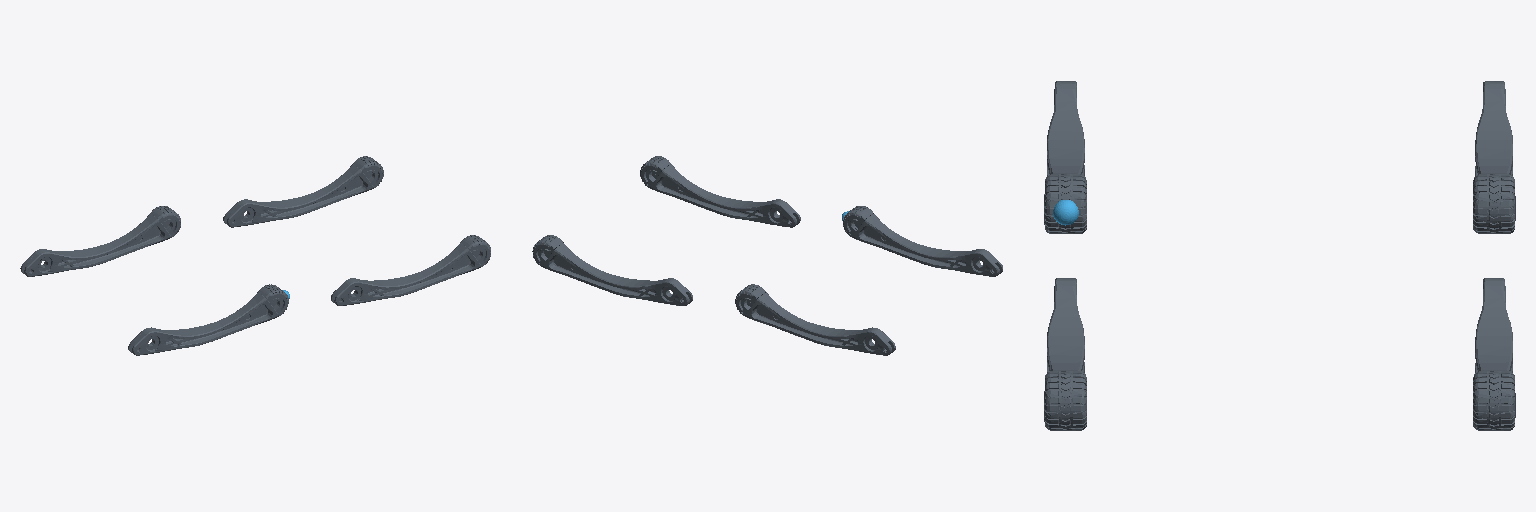
URDF robot description (MiniLiteV3):
<?xml version="1.0" encoding="utf-8"?> 
<robot name="MiniLiteV3"> 
  <link name="TORSO"> 
    <visual> 
      <origin rpy="0 0 0" xyz="0.0 0.0 0.0"/> 
      <geometry> 
      <mesh filename="../meshes/Lite3.dae" /> 
      </geometry> 
    </visual> 
    <collision> 
      <geometry> 
        <box size="0.35 0.184 0.08"/> 
      </geometry> 
    </collision> 
  </link> 
 
  <link name="INERTIA"> 
    <inertial> 
      <origin xyz="0.004098 -0.000663 -0.002069" /> 
      <mass value="4.130" /> 
      <inertia ixx="0.016982120" ixy="2.1294E-05" ixz="6.0763E-05" iyy="0.030466501" iyz="1.7968E-05" izz="0.042609956" /> 
    </inertial> 
  </link> 
 
  <joint name="Torso2Inertia" type="fixed"> 
    <parent link="TORSO" /> 
    <child link="INERTIA" /> 
  </joint> 

  <link name="FL_HIP"> 
    <inertial> 
      <origin xyz="-0.0047 -0.0091 -0.0018" /> 
      <mass value="0.428" /> 
      <inertia ixx="0.00014538" ixy="8.1579E-07" ixz="-1.264E-05" iyy="0.00024024" iyz="1.3443E-06" izz="0.00013038" /> 
    </inertial> 
    <visual> 
      <origin rpy="0 0 0" xyz="0.0 0.0 0.0"/> 
      <geometry> 
        <mesh filename="../meshes/FL_HIP.dae" /> 
      </geometry> 
    </visual> 
  </link> 
 
  <joint name="FL_HipX" type="revolute"> 
    <origin xyz="0.1745 0.062 0" /> 
    <parent link="TORSO" /> 
    <child link="FL_HIP" /> 
    <axis xyz="-1 0 0" /> 
    <limit lower="-0.42" upper="0.42" effort="24" velocity="26" /> 
  </joint> 
 
  <link name="FL_THIGH"> 
    <inertial> 
      <origin xyz="-0.00523 -0.0216 -0.0273" /> 
      <mass value="0.61" /> 
      <inertia ixx="0.001" ixy="-2.5E-06" ixz="-1.12E-04" iyy="0.00116" iyz="3.75E-07" izz="2.68E-04" /> 
    </inertial> 
    <visual> 
      <origin rpy="0 0 0" xyz="0.0 0.0 0.0"/> 
      <geometry> 
        <mesh filename="../meshes/L_THIGH.dae" /> 
      </geometry> 
    </visual> 
    <collision> 
      <origin xyz="0 0 -0.08"/> 
      <geometry> 
        <box size="0.02 0.02 0.16"/> 
      </geometry> 
    </collision> 
  </link> 
 
  <joint name="FL_HipY" type="revolute"> 
    <origin xyz="0 0.0985 0" /> 
    <parent link="FL_HIP" /> 
    <child link="FL_THIGH" /> 
    <axis xyz="0 -1 0" /> 
    <limit lower="-2.67" upper="0.314" effort="24" velocity="26" /> 
  </joint> 
 
  <link name="FL_SHANK"> 
    <inertial> 
      <origin xyz="0.00585 -8.732E-07 -0.12" /> 
      <mass value="0.115" /> 
      <inertia ixx="6.68E-04" ixy="-1.24E-08" ixz="6.91E-06" iyy="6.86E-04" iyz="5.65E-09" izz="3.155E-05" /> 
    </inertial> 
    <visual> 
      <geometry> 
        <mesh filename="../meshes/SHANK.dae" /> 
      </geometry> 
    </visual> 
    <collision> 
      <origin xyz="0 0 -0.09"/> 
      <geometry> 
        <box size="0.02 0.02 0.18"/> 
      </geometry> 
    </collision> 
  </link> 
 
  <joint name="FL_Knee" type="revolute"> 
    <origin xyz="0 0 -0.20" /> 
    <parent link="FL_THIGH" /> 
    <child link="FL_SHANK" /> 
    <axis xyz="0 -1 0" /> 
    <limit lower="0.6" upper="2.72" effort="36" velocity="17" /> 
  </joint> 
 
  <link name="FL_FOOT"> 
    <inertial> 
      <mass value="1E-2" /> 
      <inertia ixx="1E-12" ixy="0" ixz="0" iyy="1E-12" iyz="0" izz="1E-12" /> 
    </inertial> 
    <collision> 
      <geometry> 
        <sphere radius="0.01"/> 
      </geometry> 
    </collision> 
  </link> 
 

 
  <joint name="FL_Ankle" type="fixed"> 
    <origin xyz="0 0 -0.23"/> 
    <parent link="FL_SHANK" /> 
    <child link="FL_FOOT" /> 
  </joint> 

 
  <link name="FR_HIP"> 
    <inertial> 
      <origin xyz="-0.0047 0.0091 -0.0018" /> 
      <mass value="0.428" /> 
      <inertia ixx="0.00014538" ixy="-8.1551E-07" ixz="-1.2639E-05" iyy="0.00024024" iyz="-1.3441E-06" izz="0.00013038" /> 
    </inertial> 
    <visual> 
      <origin rpy="0 0 0" xyz="0.0 0.0 0.0"/> 
      <geometry> 
        <mesh filename="../meshes/FR_HIP.dae" /> 
      </geometry> 
    </visual> 
  </link> 
 
  <joint name="FR_HipX" type="revolute"> 
    <origin xyz="0.1745 -0.062 0" /> 
    <parent link="TORSO" /> 
    <child link="FR_HIP" /> 
    <axis xyz="-1 0 0" /> 
    <limit lower="-0.42" upper="0.42" effort="24" velocity="26" /> 
  </joint> 
 
  <link name="FR_THIGH"> 
    <inertial> 
      <origin xyz="-0.00523 0.0216 -0.0273" /> 
      <mass value="0.61" /> 
      <inertia ixx="0.001" ixy="2.5E-06" ixz="-1.12E-04" iyy="0.00116" iyz="-3.75E-07" izz="2.68E-04" /> 
    </inertial> 
    <visual> 
      <origin rpy="0 0 0" xyz="0.0 0.0 0.0"/> 
      <geometry> 
        <mesh filename="../meshes/R_THIGH.dae" /> 
      </geometry> 
    </visual> 
    <collision> 
      <origin xyz="0 0 -0.08"/> 
      <geometry> 
        <box size="0.02 0.02 0.16"/> 
      </geometry> 
    </collision> 
  </link> 
 
  <joint name="FR_HipY" type="revolute"> 
    <origin xyz="0 -0.0985 0" /> 
    <parent link="FR_HIP" /> 
    <child link="FR_THIGH" /> 
    <axis xyz="0 -1 0" /> 
    <limit lower="-2.67" upper="0.314" effort="24" velocity="26" /> 
  </joint> 
 
  <link name="FR_SHANK"> 
    <inertial> 
      <origin xyz="0.00585 -8.732E-07 -0.12" /> 
      <mass value="0.115" /> 
      <inertia ixx="6.68E-04" ixy="-1.24E-08" ixz="6.91E-06" iyy="6.86E-04" iyz="5.65E-09" izz="3.155E-05" /> 
    </inertial> 
    <visual> 
      <geometry> 
        <mesh filename="../meshes/SHANK.dae" /> 
      </geometry> 
    </visual> 
    <collision> 
      <origin xyz="0 0 -0.09"/> 
      <geometry> 
        <box size="0.02 0.02 0.18"/> 
      </geometry> 
    </collision> 
  </link> 
 
  <joint name="FR_Knee" type="revolute"> 
    <origin xyz="0 0 -0.20" /> 
    <parent link="FR_THIGH" /> 
    <child link="FR_SHANK" /> 
    <axis xyz="0 -1 0" /> 
    <limit lower="0.6" upper="2.72" effort="36" velocity="17" /> 
  </joint> 
 
  <link name="FR_FOOT"> 
    <inertial> 
      <mass value="1E-2" /> 
      <inertia ixx="1E-12" ixy="0" ixz="0" iyy="1E-12" iyz="0" izz="1E-12" /> 
    </inertial> 
    <collision> 
      <geometry> 
        <sphere radius="0.01"/> 
      </geometry> 
    </collision> 
  </link> 

 
  <joint name="FR_Ankle" type="fixed"> 
    <origin xyz="0 0 -0.23"/> 
    <parent link="FR_SHANK" /> 
    <child link="FR_FOOT" /> 
  </joint> 

 
  <link name="HL_HIP"> 
    <inertial> 
      <origin xyz="0.0047 -0.0091 -0.0018" /> 
      <mass value="0.428" /> 
      <inertia ixx="0.00014538" ixy="-8.1585E-07" ixz="1.2639E-05" iyy="0.00024024" iyz="1.3444E-06" izz="0.00013038" /> 
    </inertial> 
    <visual> 
      <origin rpy="0 0 0" xyz="0.0 0.0 0.0"/> 
      <geometry> 
        <mesh filename="../meshes/HL_HIP.dae" /> 
      </geometry> 
    </visual> 
  </link> 
 
  <joint name="HL_HipX" type="revolute"> 
    <origin xyz="-0.1745 0.062 0" /> 
    <parent link="TORSO" /> 
    <child link="HL_HIP" /> 
    <axis xyz="-1 0 0" /> 
    <limit lower="-0.42" upper="0.42" effort="24" velocity="26" /> 
  </joint> 
 
  <link name="HL_THIGH"> 
    <inertial> 
      <origin xyz="-0.00523 -0.0216 -0.0273" /> 
      <mass value="0.61" /> 
      <inertia ixx="0.001" ixy="-2.5E-06" ixz="-1.12E-04" iyy="0.00116" iyz="3.75E-07" izz="2.68E-04" /> 
    </inertial> 
    <visual> 
      <origin rpy="0 0 0" xyz="0.0 0.0 0.0"/> 
      <geometry> 
        <mesh filename="../meshes/L_THIGH.dae" /> 
      </geometry> 
    </visual> 
    <collision> 
      <origin xyz="0 0 -0.08"/> 
      <geometry> 
        <box size="0.02 0.02 0.16"/> 
      </geometry> 
    </collision> 
  </link> 
 
  <joint name="HL_HipY" type="revolute"> 
    <origin xyz="0 0.0985 0" /> 
    <parent link="HL_HIP" /> 
    <child link="HL_THIGH" /> 
    <axis xyz="0 -1 0" /> 
    <limit lower="-2.67" upper="0.314" effort="24" velocity="26" /> 
  </joint> 
 
  <link name="HL_SHANK"> 
    <inertial> 
      <origin xyz="0.00585 -8.732E-07 -0.12" /> 
      <mass value="0.115" /> 
      <inertia ixx="6.68E-04" ixy="-1.24E-08" ixz="6.91E-06" iyy="6.86E-04" iyz="5.65E-09" izz="3.155E-05" /> 
    </inertial> 
    <visual> 
      <geometry> 
        <mesh filename="../meshes/SHANK.dae" /> 
      </geometry> 
    </visual> 
    <collision> 
      <origin xyz="0 0 -0.09"/> 
      <geometry> 
        <box size="0.02 0.02 0.18"/> 
      </geometry> 
    </collision> 
  </link> 
 
  <joint name="HL_Knee" type="revolute"> 
    <origin xyz="0 0 -0.20" /> 
    <parent link="HL_THIGH" /> 
    <child link="HL_SHANK" /> 
    <axis xyz="0 -1 0" /> 
    <limit lower="0.6" upper="2.72" effort="36" velocity="17" /> 
  </joint> 
 
  <link name="HL_FOOT"> 
    <inertial> 
      <mass value="1E-2" /> 
      <inertia ixx="1E-12" ixy="0" ixz="0" iyy="1E-12" iyz="0" izz="1E-12" /> 
    </inertial> 
    <collision> 
      <geometry> 
        <sphere radius="0.01"/> 
      </geometry> 
    </collision> 
  </link> 

 
  <joint name="HL_Ankle" type="fixed"> 
    <origin xyz="0 0 -0.23"/> 
    <parent link="HL_SHANK" /> 
    <child link="HL_FOOT" /> 
  </joint> 

 
  <link name="HR_HIP"> 
    <inertial> 
      <origin xyz="0.0047 0.0091 -0.0018" /> 
      <mass value="0.428" /> 
      <inertia ixx="0.00014538" ixy="8.1545E-07" ixz="1.2639E-05" iyy="0.00024024" iyz="-1.344E-06" izz="0.00013038" /> 
    </inertial> 
    <visual> 
      <origin rpy="0 0 0" xyz="0.0 0.0 0.0"/> 
      <geometry> 
        <mesh filename="../meshes/HR_HIP.dae" /> 
      </geometry> 
    </visual> 
  </link> 
 
  <joint name="HR_HipX" type="revolute"> 
    <origin xyz="-0.1745 -0.062 0" /> 
    <parent link="TORSO" /> 
    <child link="HR_HIP" /> 
    <axis xyz="-1 0 0" /> 
    <limit lower="-0.42" upper="0.42" effort="24" velocity="26" /> 
  </joint> 
 
  <link name="HR_THIGH"> 
    <inertial> 
      <origin xyz="-0.00523 0.0216 -0.0273" /> 
      <mass value="0.61" /> 
      <inertia ixx="0.001" ixy="2.5E-06" ixz="-1.12E-04" iyy="0.00116" iyz="-3.75E-07" izz="2.68E-04" /> 
    </inertial> 
    <visual> 
      <origin rpy="0 0 0" xyz="0.0 0.0 0.0"/> 
      <geometry> 
        <mesh filename="../meshes/R_THIGH.dae" /> 
      </geometry> 
    </visual> 
    <collision> 
      <origin xyz="0 0 -0.08"/> 
      <geometry> 
        <box size="0.02 0.02 0.16"/> 
      </geometry> 
    </collision> 
  </link> 
 
  <joint name="HR_HipY" type="revolute"> 
    <origin xyz="0 -0.0985 0" /> 
    <parent link="HR_HIP" /> 
    <child link="HR_THIGH" /> 
    <axis xyz="0 -1 0" /> 
    <limit lower="-2.67" upper="0.314" effort="24" velocity="26" /> 
  </joint> 
 
  <link name="HR_SHANK"> 
    <inertial> 
      <origin xyz="0.00585 -8.732E-07 -0.12" /> 
      <mass value="0.115" /> 
      <inertia ixx="6.68E-04" ixy="-1.24E-08" ixz="6.91E-06" iyy="6.86E-04" iyz="5.65E-09" izz="3.155E-05" /> 
    </inertial> 
    <visual> 
      <geometry> 
        <mesh filename="../meshes/SHANK.dae" />
      </geometry> 
    </visual> 
    <collision> 
      <origin xyz="0 0 -0.09"/> 
      <geometry> 
        <box size="0.02 0.02 0.18"/> 
      </geometry> 
    </collision> 
  </link> 
 
  <joint name="HR_Knee" type="revolute"> 
    <origin xyz="0 0 -0.20" /> 
    <parent link="HR_THIGH" /> 
    <child link="HR_SHANK" /> 
    <axis xyz="0 -1 0" /> 
    <limit lower="0.6" upper="2.72" effort="36" velocity="17" /> 
  </joint> 
 
  <link name="HR_FOOT"> 
    <inertial> 
      <mass value="1E-2" /> 
      <inertia ixx="1E-12" ixy="0" ixz="0" iyy="1E-12" iyz="0" izz="1E-12" /> 
    </inertial> 
    <visual>
      <geometry> 
          <sphere radius="0.01"/> 
      </geometry> 
    </visual>
    <collision> 
      <geometry> 
        <sphere radius="0.01"/> 
      </geometry> 
    </collision> 
  </link> 

 
  <joint name="HR_Ankle" type="fixed"> 
    <origin xyz="0 0 -0.23"/> 
    <parent link="HR_SHANK" /> 
    <child link="HR_FOOT" /> 
  </joint> 

 
</robot> 

--- What the picture shows (computed from the rendered views, not written in the file) ---
3 views of the same robot in one strip: view 1: azimuth 30°, elevation 25°; view 2: azimuth 150°, elevation 25°; view 3: azimuth 270°, elevation 25° (orthographic).
Robot: MiniLiteV3 — 18 links, 17 joints (12 revolute, 5 fixed); root link TORSO; default pose: joints at zero except 4 at the middle of their limits (FL_Knee = 1.66, FR_Knee = 1.66, HL_Knee = 1.66, HR_Knee = 1.66).
Visible links, largest first — view 1: FL_SHANK, HL_SHANK, HR_SHANK, FR_SHANK; view 2: FR_SHANK, HR_SHANK, FL_SHANK, HL_SHANK; view 3: FR_SHANK, FL_SHANK, HL_SHANK, HR_SHANK, HR_FOOT.
Boxes of the visible links, x1=… form: FL_SHANK: x1=223, y1=156, x2=383, y2=227; HL_SHANK: x1=20, y1=206, x2=180, y2=276; HR_SHANK: x1=128, y1=284, x2=288, y2=355; FR_SHANK: x1=331, y1=235, x2=490, y2=305; FR_SHANK: x1=640, y1=156, x2=800, y2=227; HR_SHANK: x1=843, y1=206, x2=1002, y2=276; FL_SHANK: x1=532, y1=235, x2=692, y2=305; HL_SHANK: x1=735, y1=284, x2=895, y2=355; FR_SHANK: x1=1044, y1=278, x2=1086, y2=430; FL_SHANK: x1=1473, y1=278, x2=1515, y2=430; HL_SHANK: x1=1473, y1=81, x2=1515, y2=233; HR_SHANK: x1=1044, y1=81, x2=1086, y2=233; HR_FOOT: x1=1053, y1=200, x2=1078, y2=225.
Bounding box of the posed robot: 0.6151 × 0.353 × 0.06 m (x, y, z).
Meshes: 8 distinct files referenced, 4 mesh visuals loaded (1 Collada DAE); not drawn: 9 (reference not matched to a file when rendering).